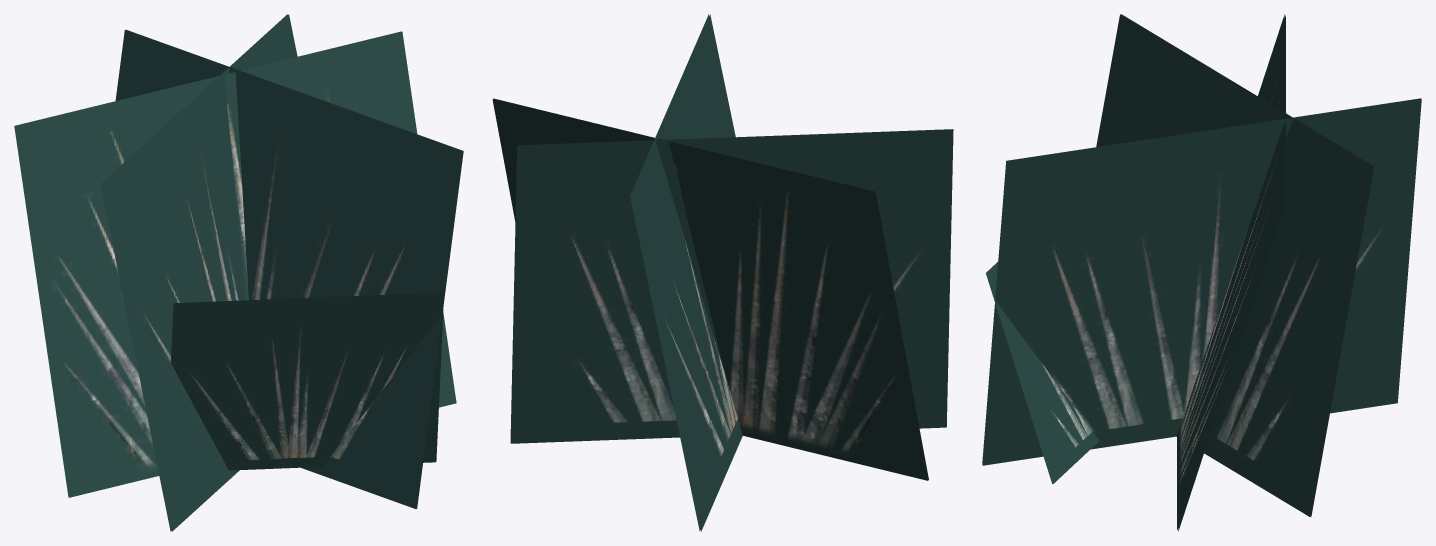
File: rock_crystl_shrpbush_med_l3.fbx
The picture shows the model from 3 angles, left to right: view 1: azimuth 30°, elevation 25°; view 2: azimuth 150°, elevation 25°; view 3: azimuth 270°, elevation 25°; orthographic projection.
Visible parts, largest first — view 1: mesh_node; view 2: mesh_node; view 3: mesh_node.
Part boxes in pixels (box(x1,y1,x2,y2)): mesh_node: box(14, 14, 463, 531); mesh_node: box(492, 14, 953, 531); mesh_node: box(982, 14, 1421, 531).
Bounding box in the file's own units: 2.48 × 2.05 × 2.46.
